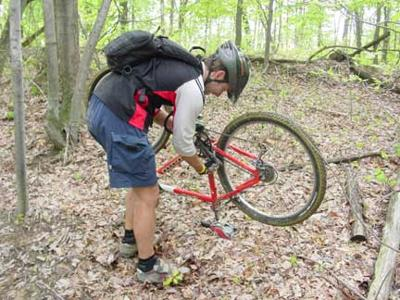person: (86, 27, 251, 288)
